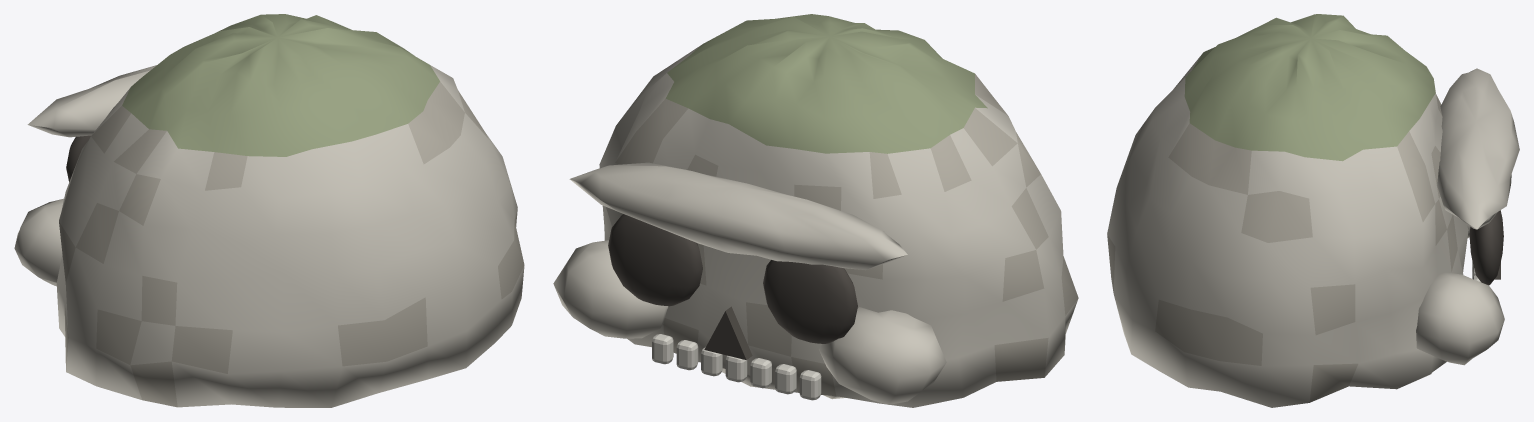
Rendered from calavera.glb.
3 renders of one model, left to right at view 1: azimuth 30°, elevation 25°; view 2: azimuth 150°, elevation 25°; view 3: azimuth 270°, elevation 25°, orthographic. The views are drawn at different scales.
Visible parts, largest first — view 1: calavera; view 2: calavera; view 3: calavera.
Part boxes in pixels (x1,y1,x2,y2): calavera: [14, 14, 524, 407]; calavera: [553, 14, 1078, 407]; calavera: [1107, 14, 1519, 407].
Bounding box in the file's own units: 24.85 × 15.99 × 21.64.
